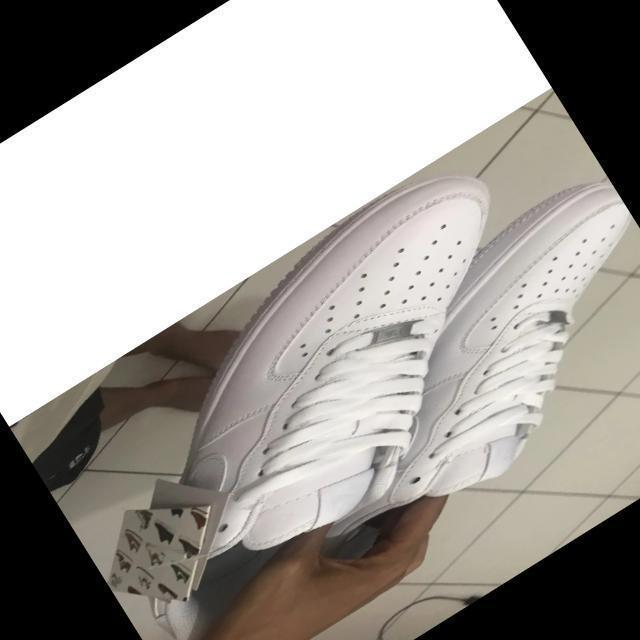nike original air force: (24, 142, 624, 640), (275, 167, 640, 555)
